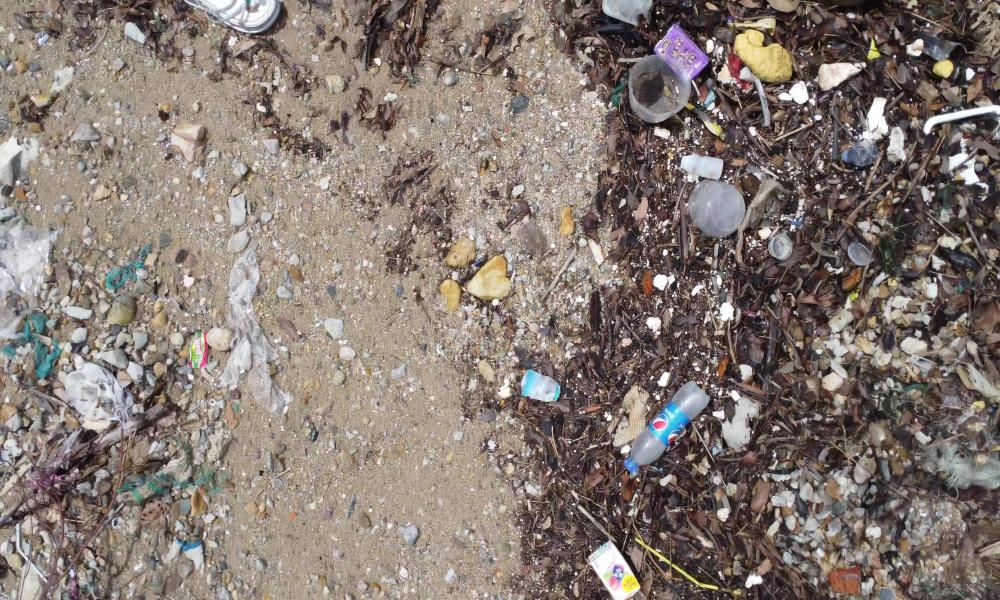carton: (656, 22, 715, 88), (584, 540, 644, 595), (518, 366, 562, 408)
plastic bag: (0, 198, 47, 344), (50, 358, 134, 434)
plastic bottle: (621, 382, 712, 481)
plastic container: (621, 51, 690, 127), (677, 180, 756, 237)
